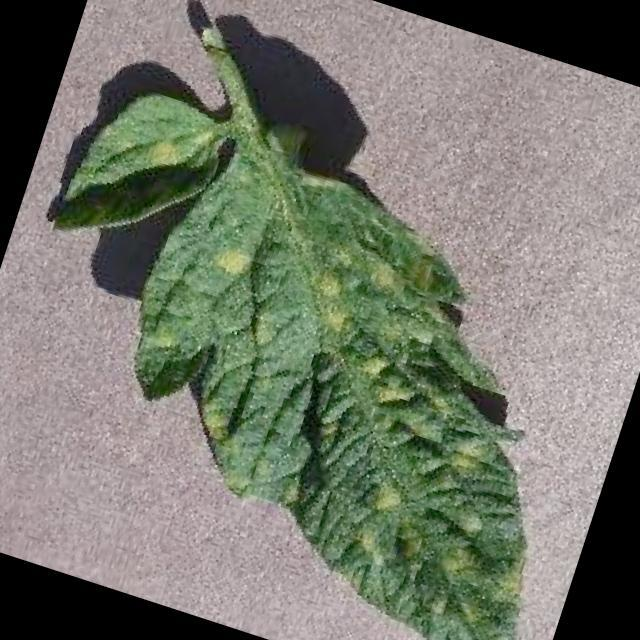Tomato mold leaf: (0, 63, 640, 640)
